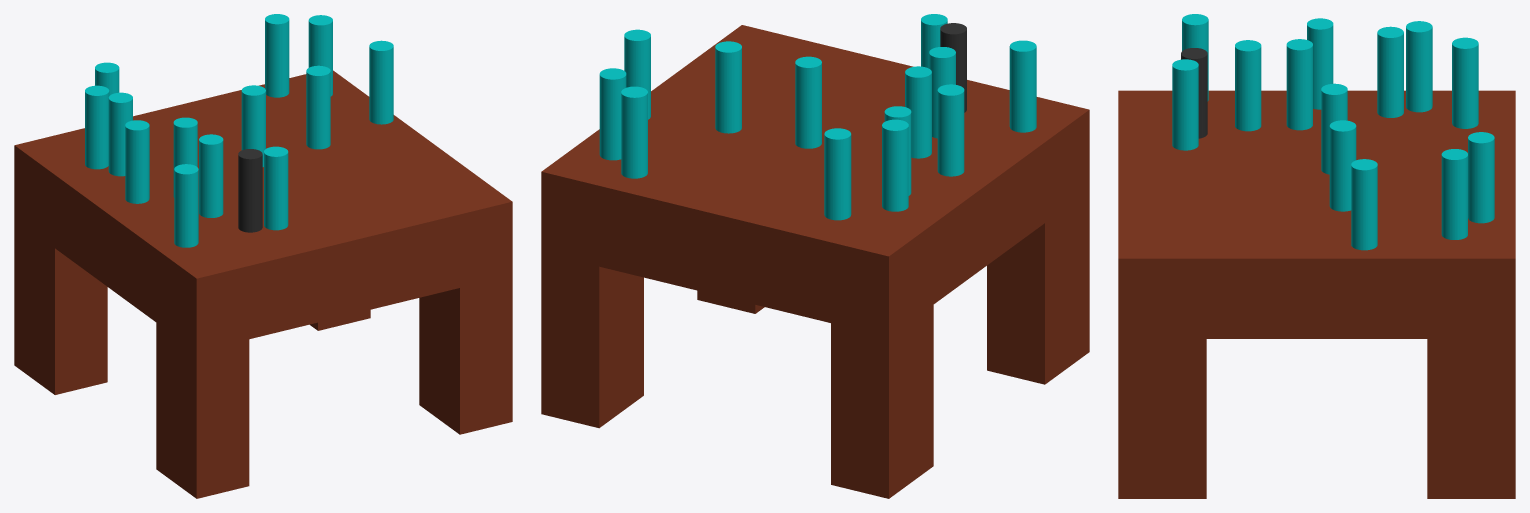
Rendered from can_world_14_cans.dae.
3 views of the same model, side by side, from view 1: azimuth 30°, elevation 25°; view 2: azimuth 150°, elevation 25°; view 3: azimuth 270°, elevation 25° (orthographic). The views are drawn at different scales.
Visible parts, largest first — view 1: base (×18); view 2: base (×19); view 3: base (×17).
Part boxes in pixels (x1=…): base (×18): x1=14, y1=14, x2=512, y2=498; base (×19): x1=541, y1=14, x2=1089, y2=498; base (×17): x1=1118, y1=14, x2=1515, y2=498.
Size of the model in its own units: 0.9 by 0.9 by 0.811.
